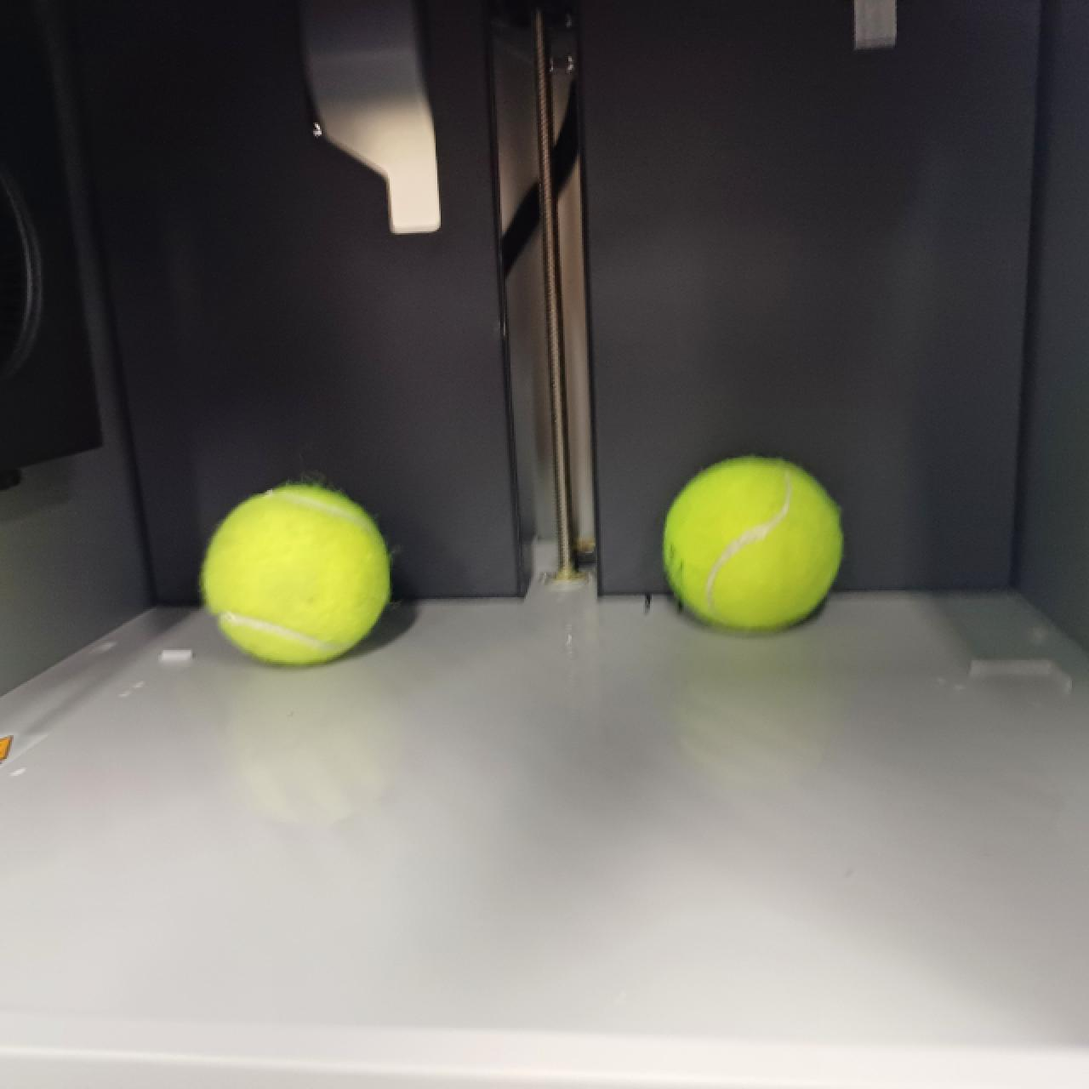tennis-ball: (198, 480, 393, 669), (659, 454, 847, 634)
